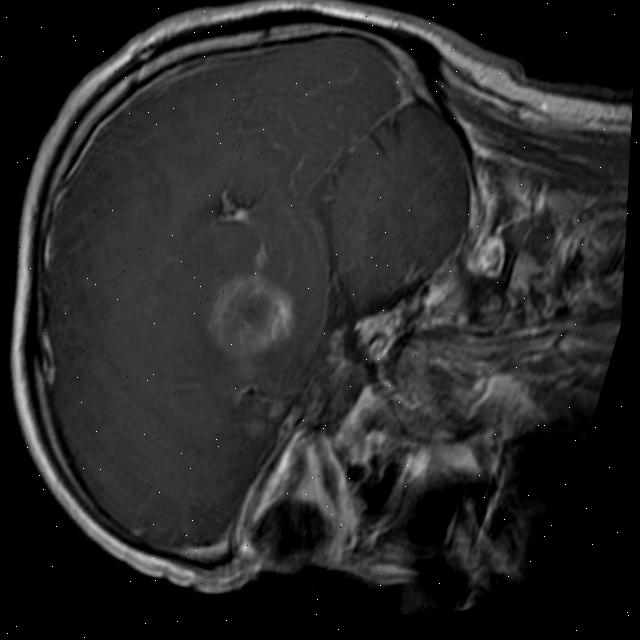Glioma: (195, 262, 307, 371)
